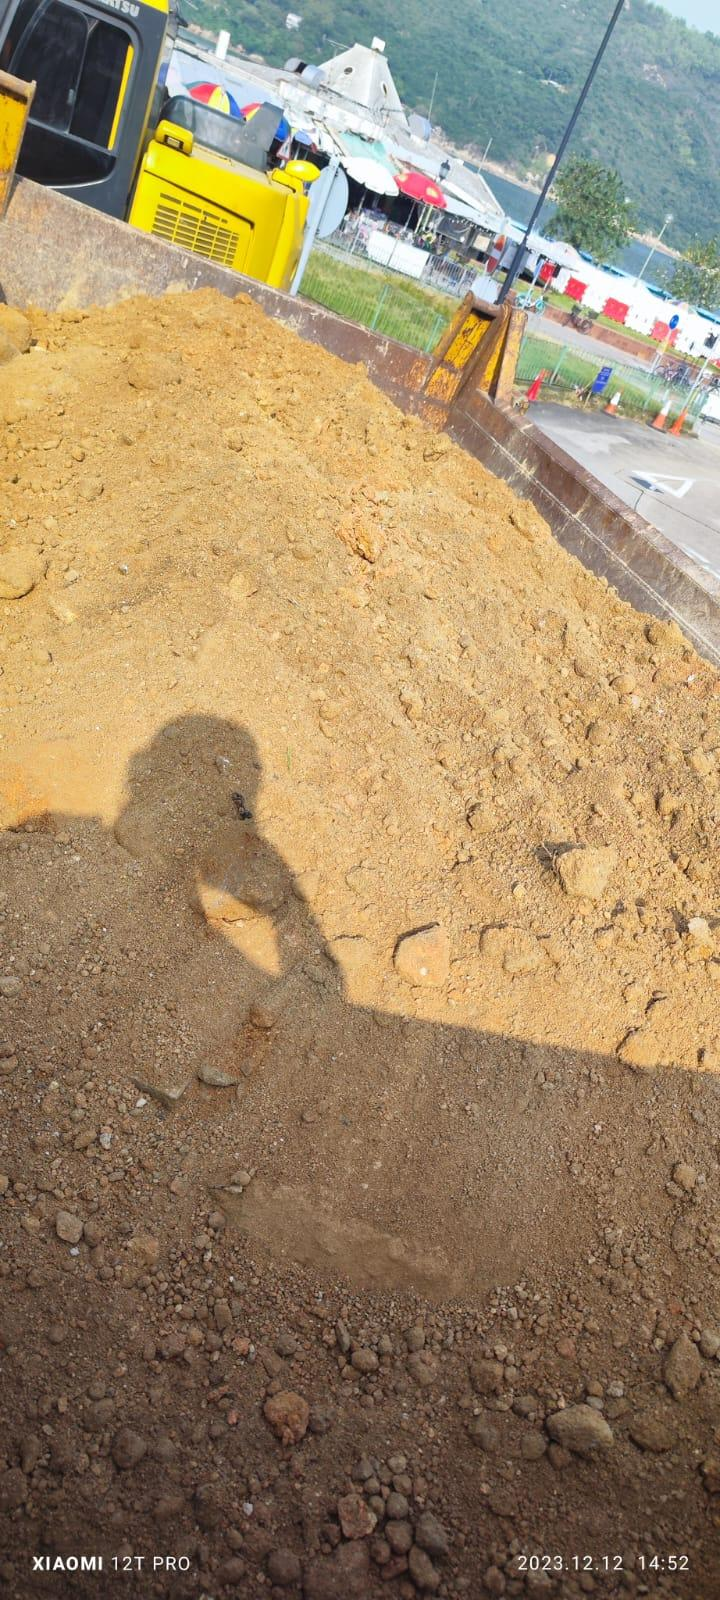dirt: (1, 283, 718, 1596)
stone: (544, 1403, 613, 1453), (262, 1389, 309, 1444)
